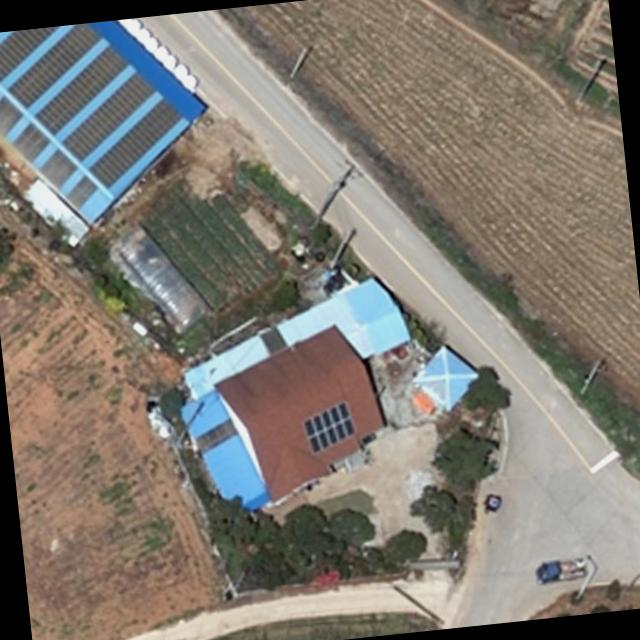solar: (300, 400, 361, 458)
